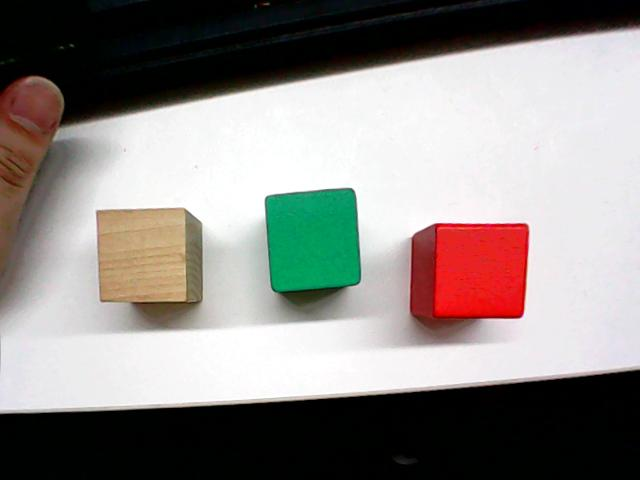green_box: (261, 183, 363, 295)
raw_box: (93, 203, 206, 306)
red_box: (407, 217, 532, 324)
